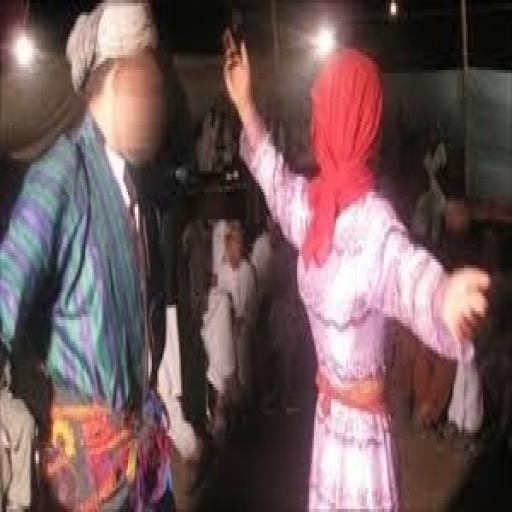dancing: (218, 24, 495, 509), (0, 0, 184, 509)
